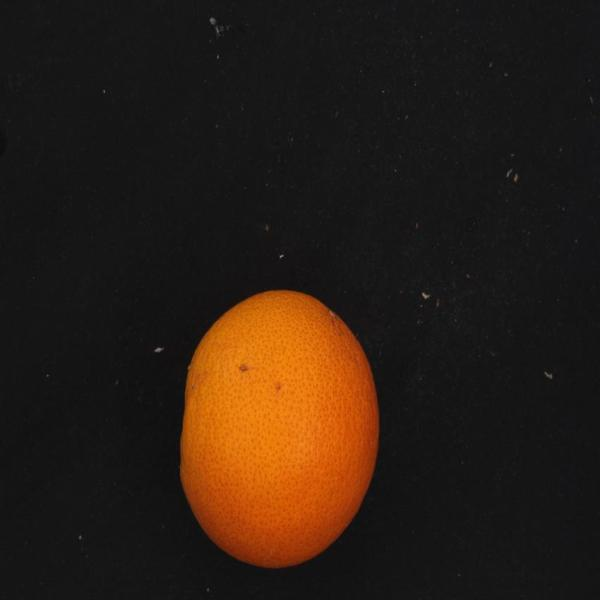Sana: (163, 277, 388, 572)
